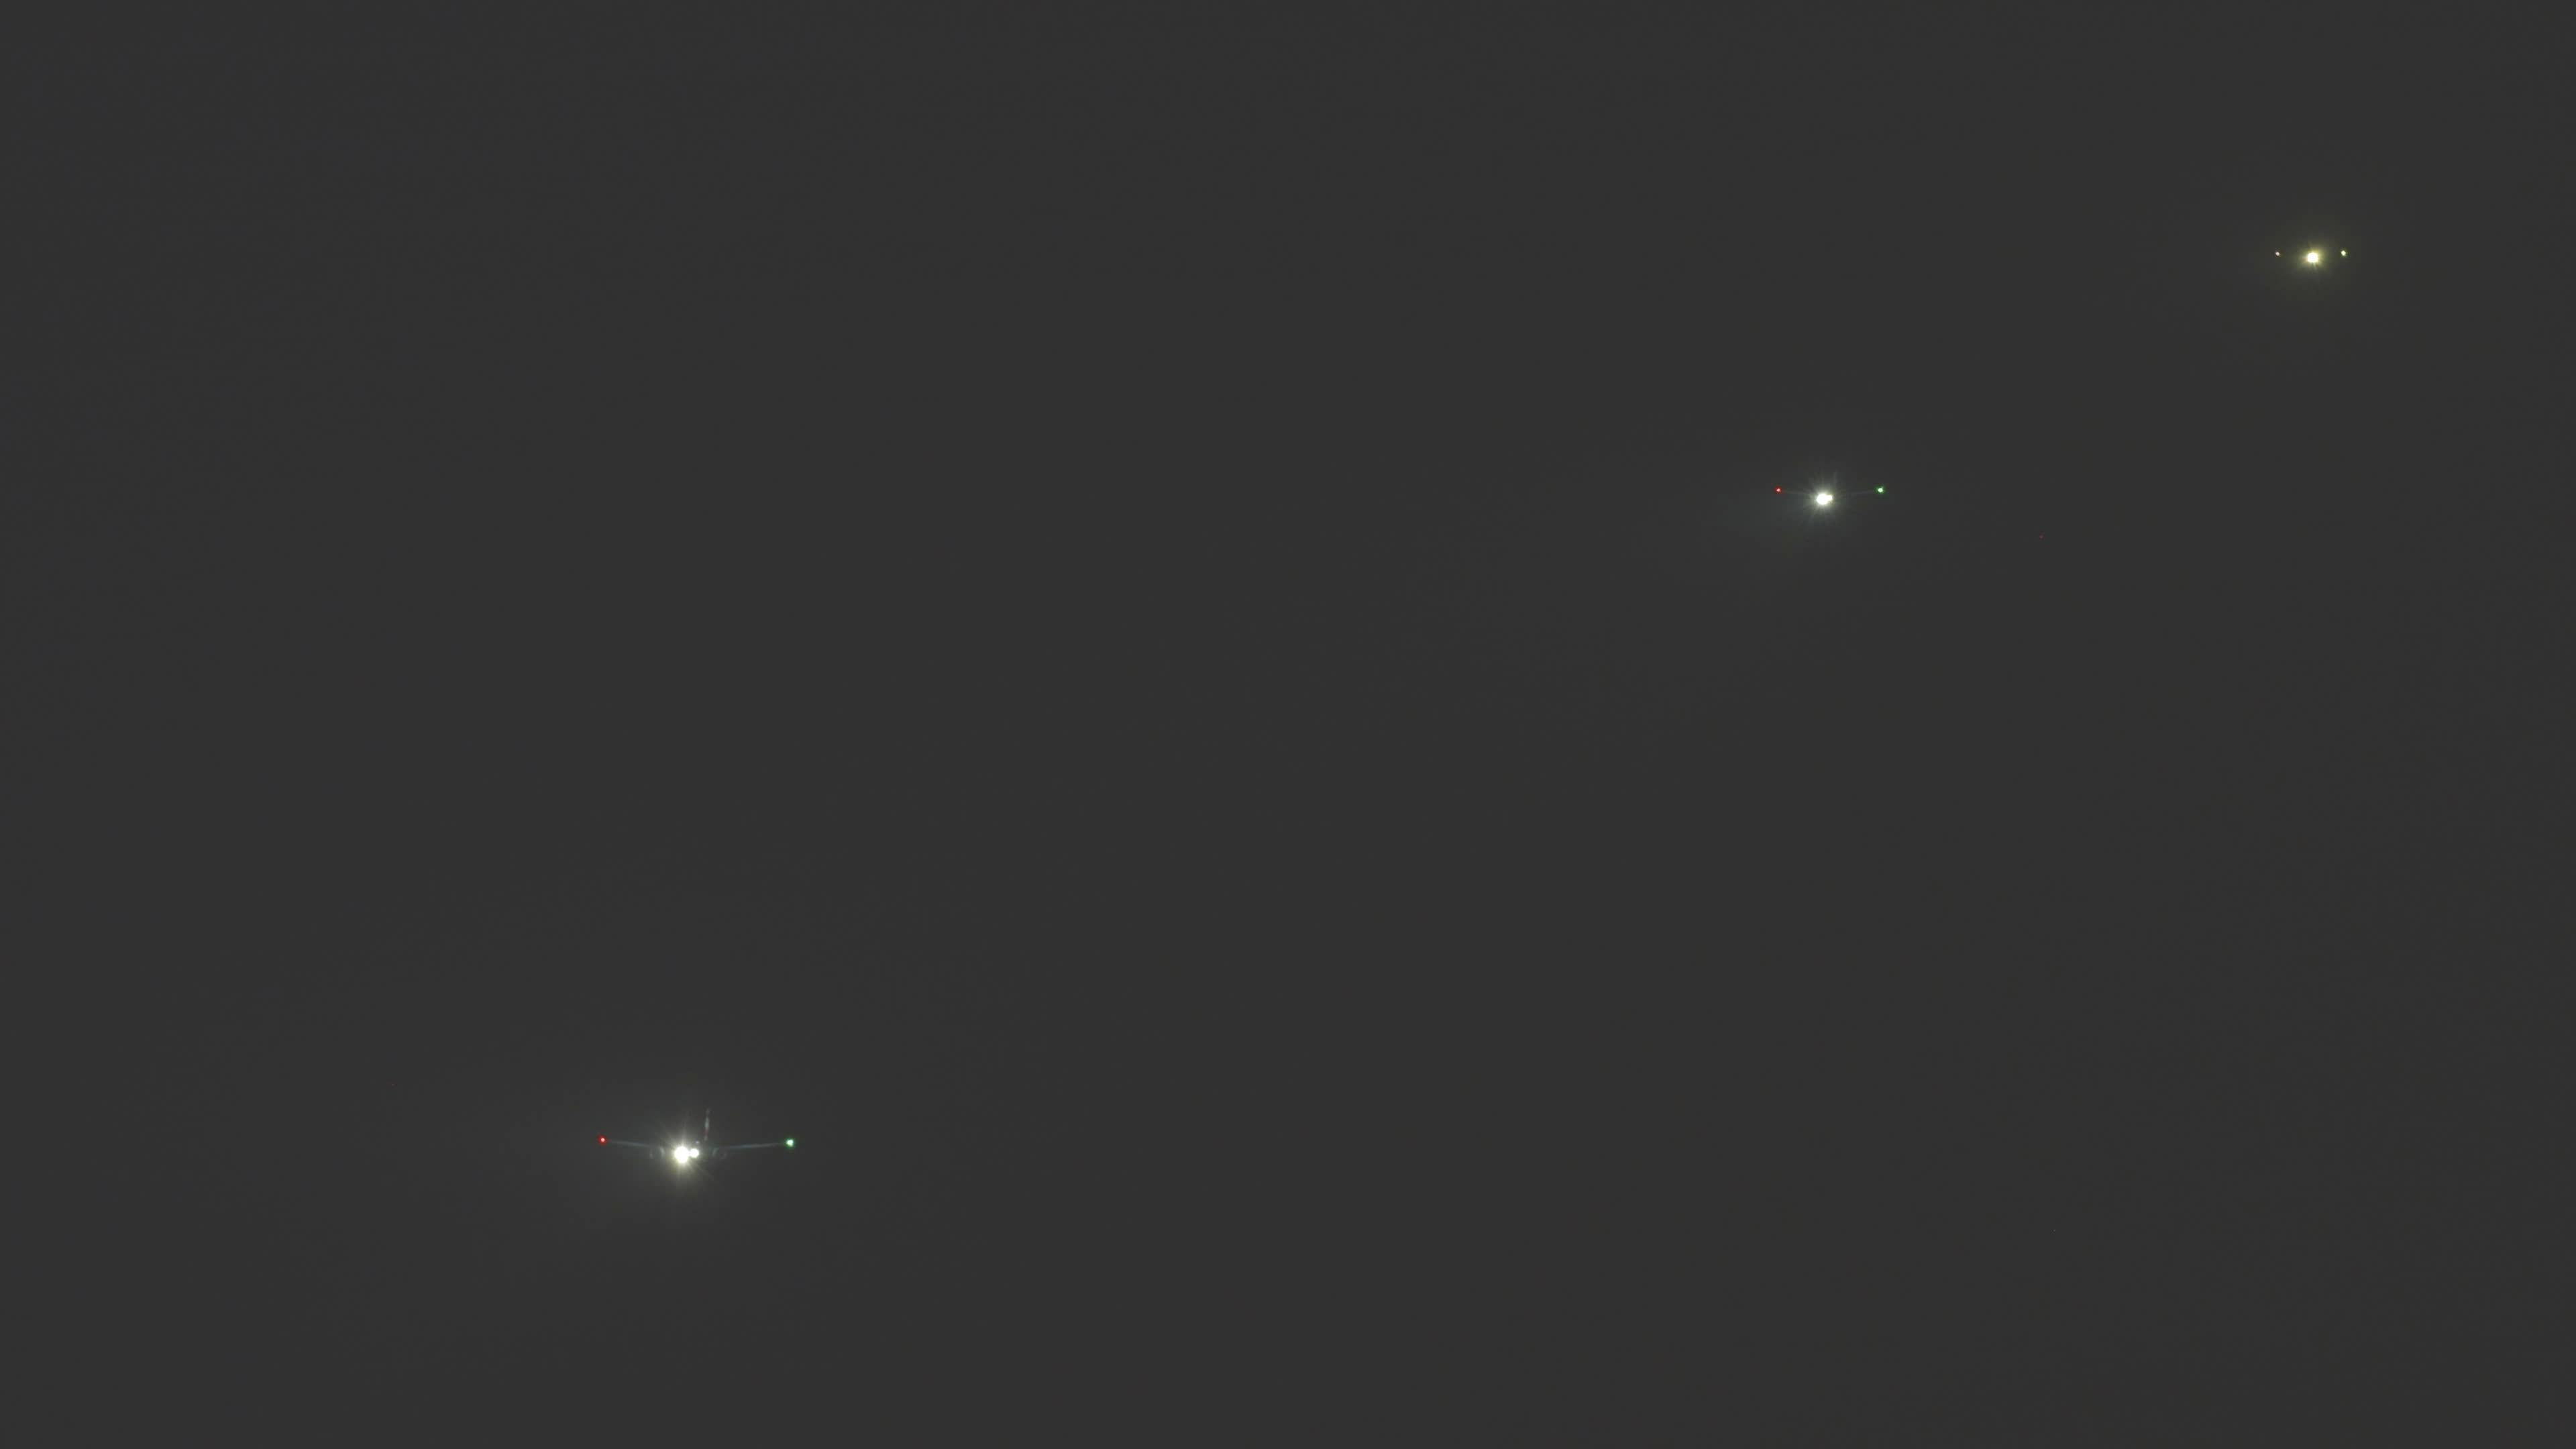Plane: (522, 1088, 865, 1200), (1723, 456, 1928, 525), (2238, 219, 2392, 288)
